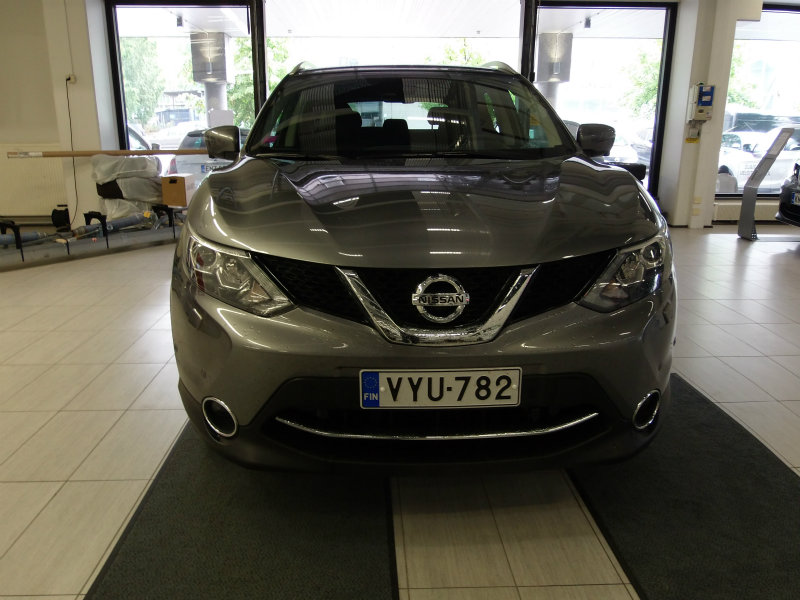license: (353, 367, 520, 415)
